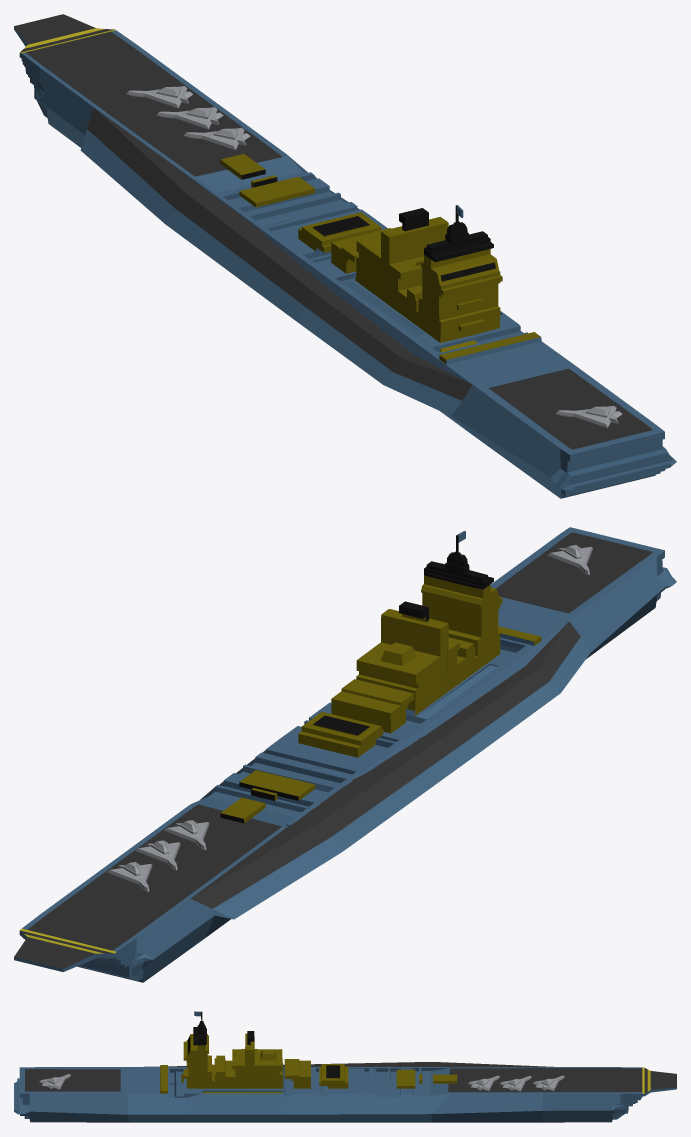
The model's file is Carrier v9 1.fbx.
The picture shows the model from 3 angles, top to bottom: view 1: azimuth 30°, elevation 25°; view 2: azimuth 150°, elevation 25°; view 3: azimuth 270°, elevation 25°; orthographic projection. The views are drawn at different scales.
Parts seen in each view (by area): view 1: CarrierV3; view 2: CarrierV3; view 3: CarrierV3.
Boxes of the visible parts, x1,y1,x2,y2 form: CarrierV3: [14, 14, 676, 498]; CarrierV3: [14, 527, 676, 982]; CarrierV3: [14, 1011, 676, 1122].
Bounding box in the file's own units: 132 × 136 × 839.
